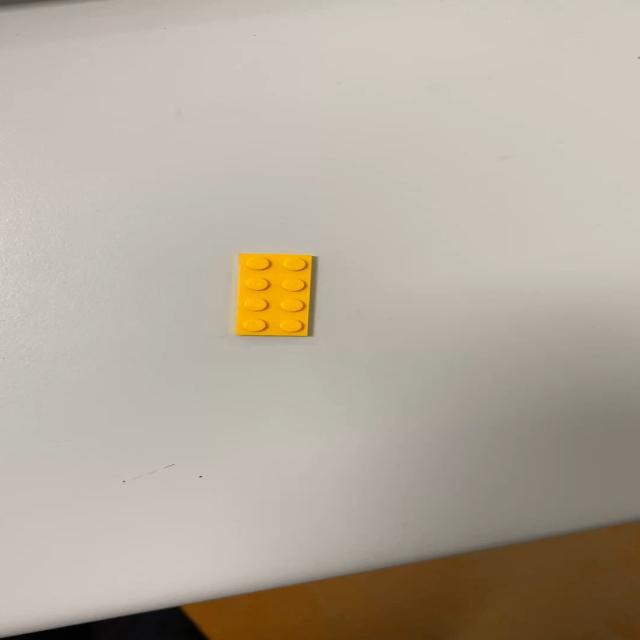C4x2x0: (232, 255, 312, 340)
